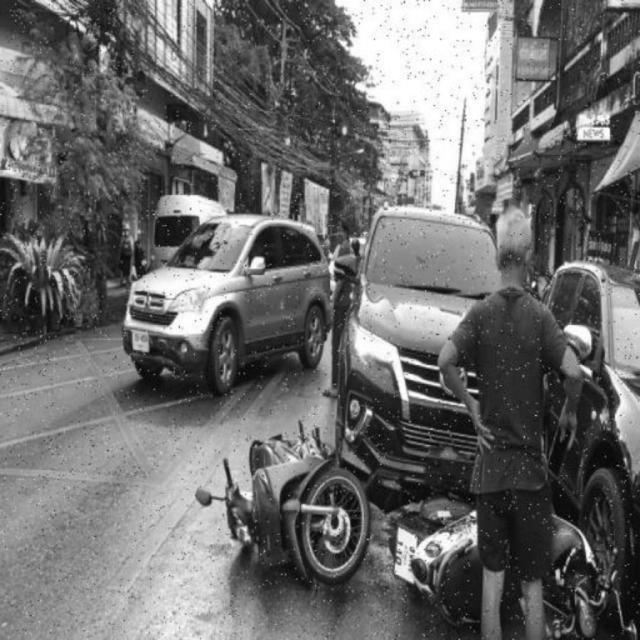accident: (356, 212, 640, 630)
person: (461, 197, 569, 627), (321, 211, 356, 401)
vehicle: (116, 217, 322, 393), (224, 423, 378, 588)
